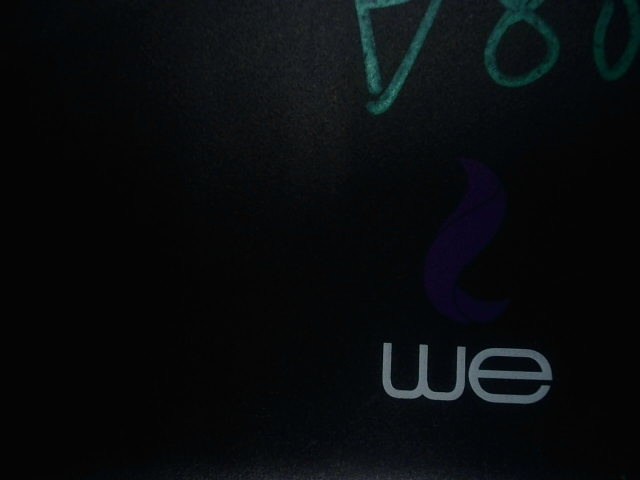AT_We: (366, 158, 566, 407)
